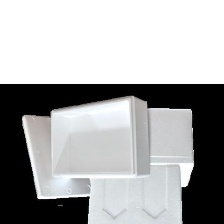foam_box: (46, 92, 154, 182), (18, 109, 91, 204), (83, 160, 187, 224), (143, 103, 198, 190)
